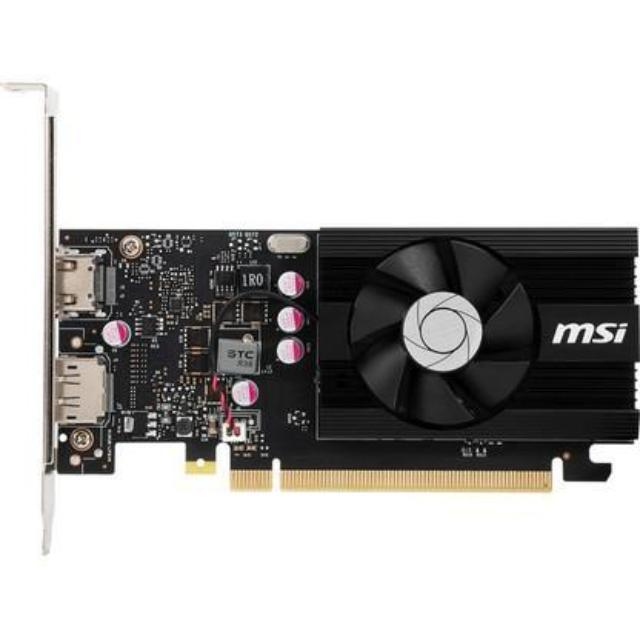GPU: (31, 184, 640, 516)
